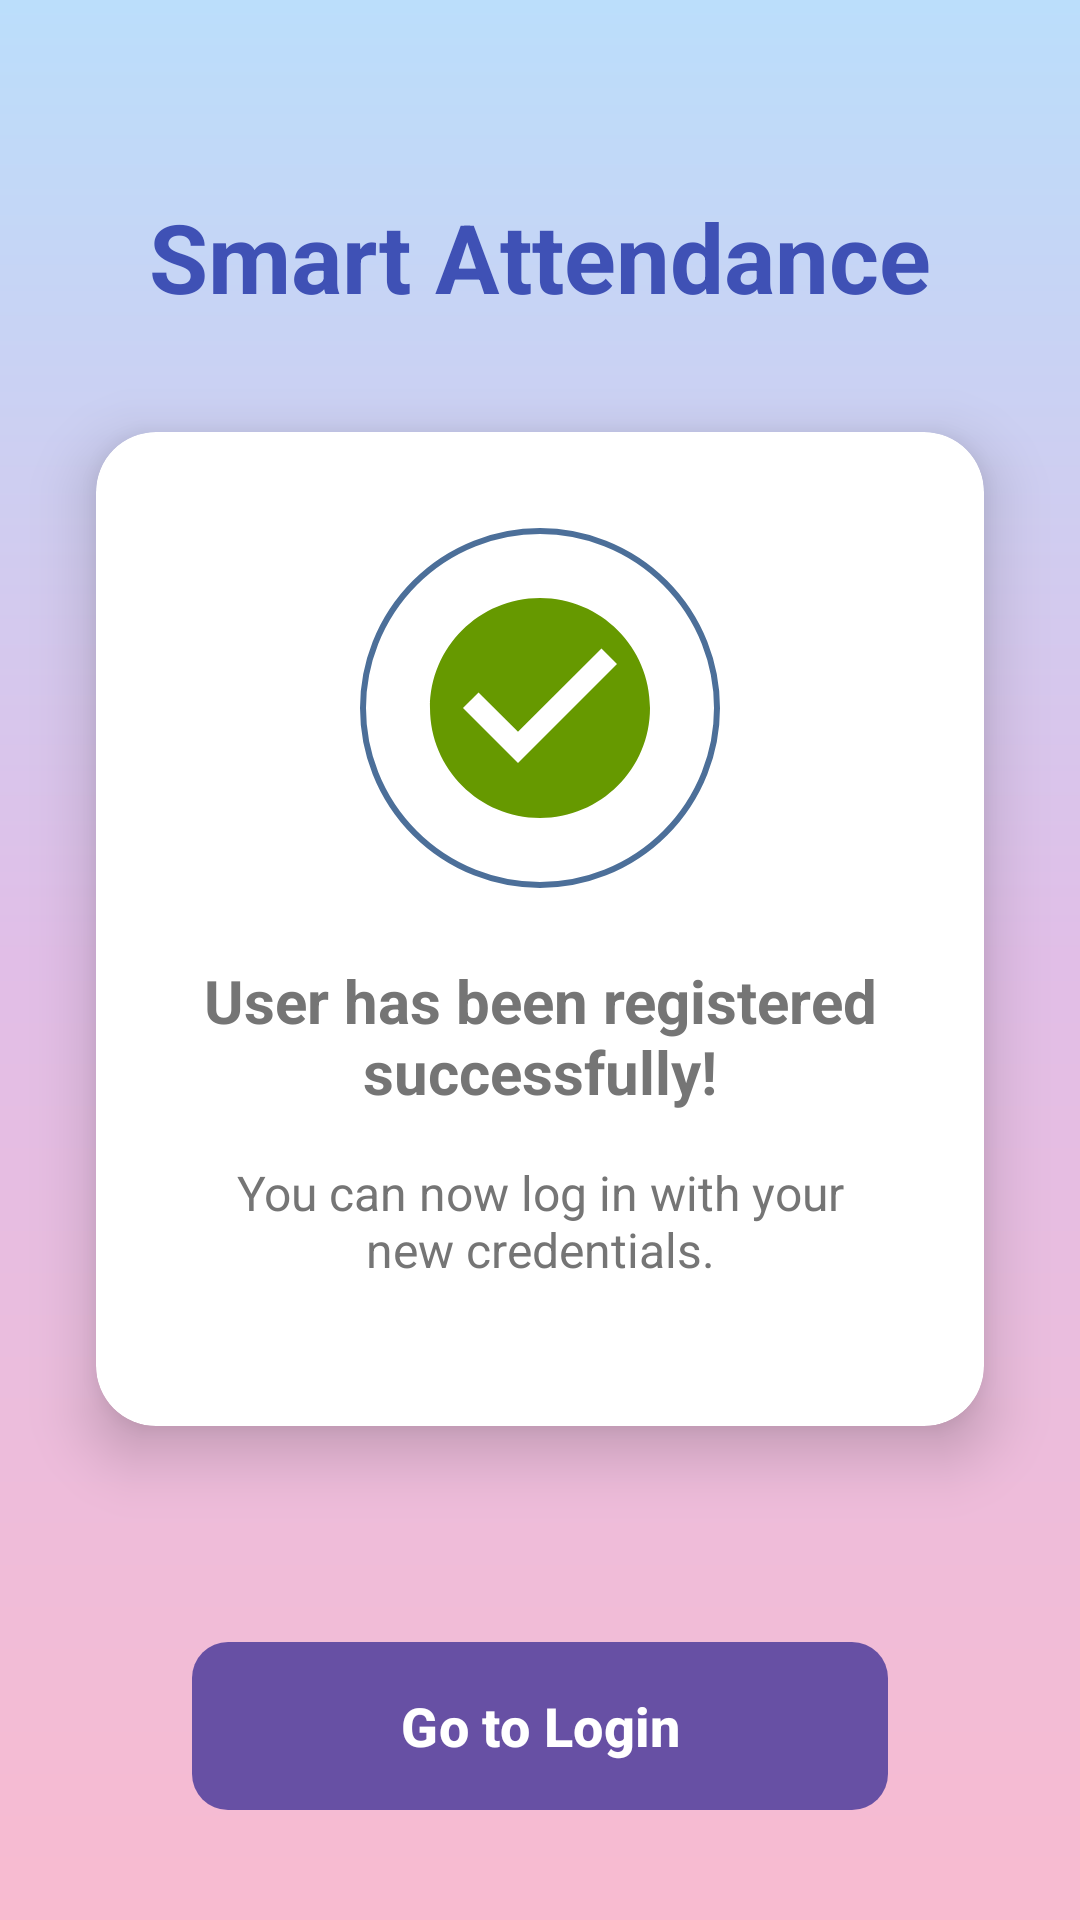

Named icons in this screenshot (1080px×1920px) and their bounding boxes, bbox(x1, y1, x2, y2):
Success Icon: bbox(360, 528, 720, 888)
